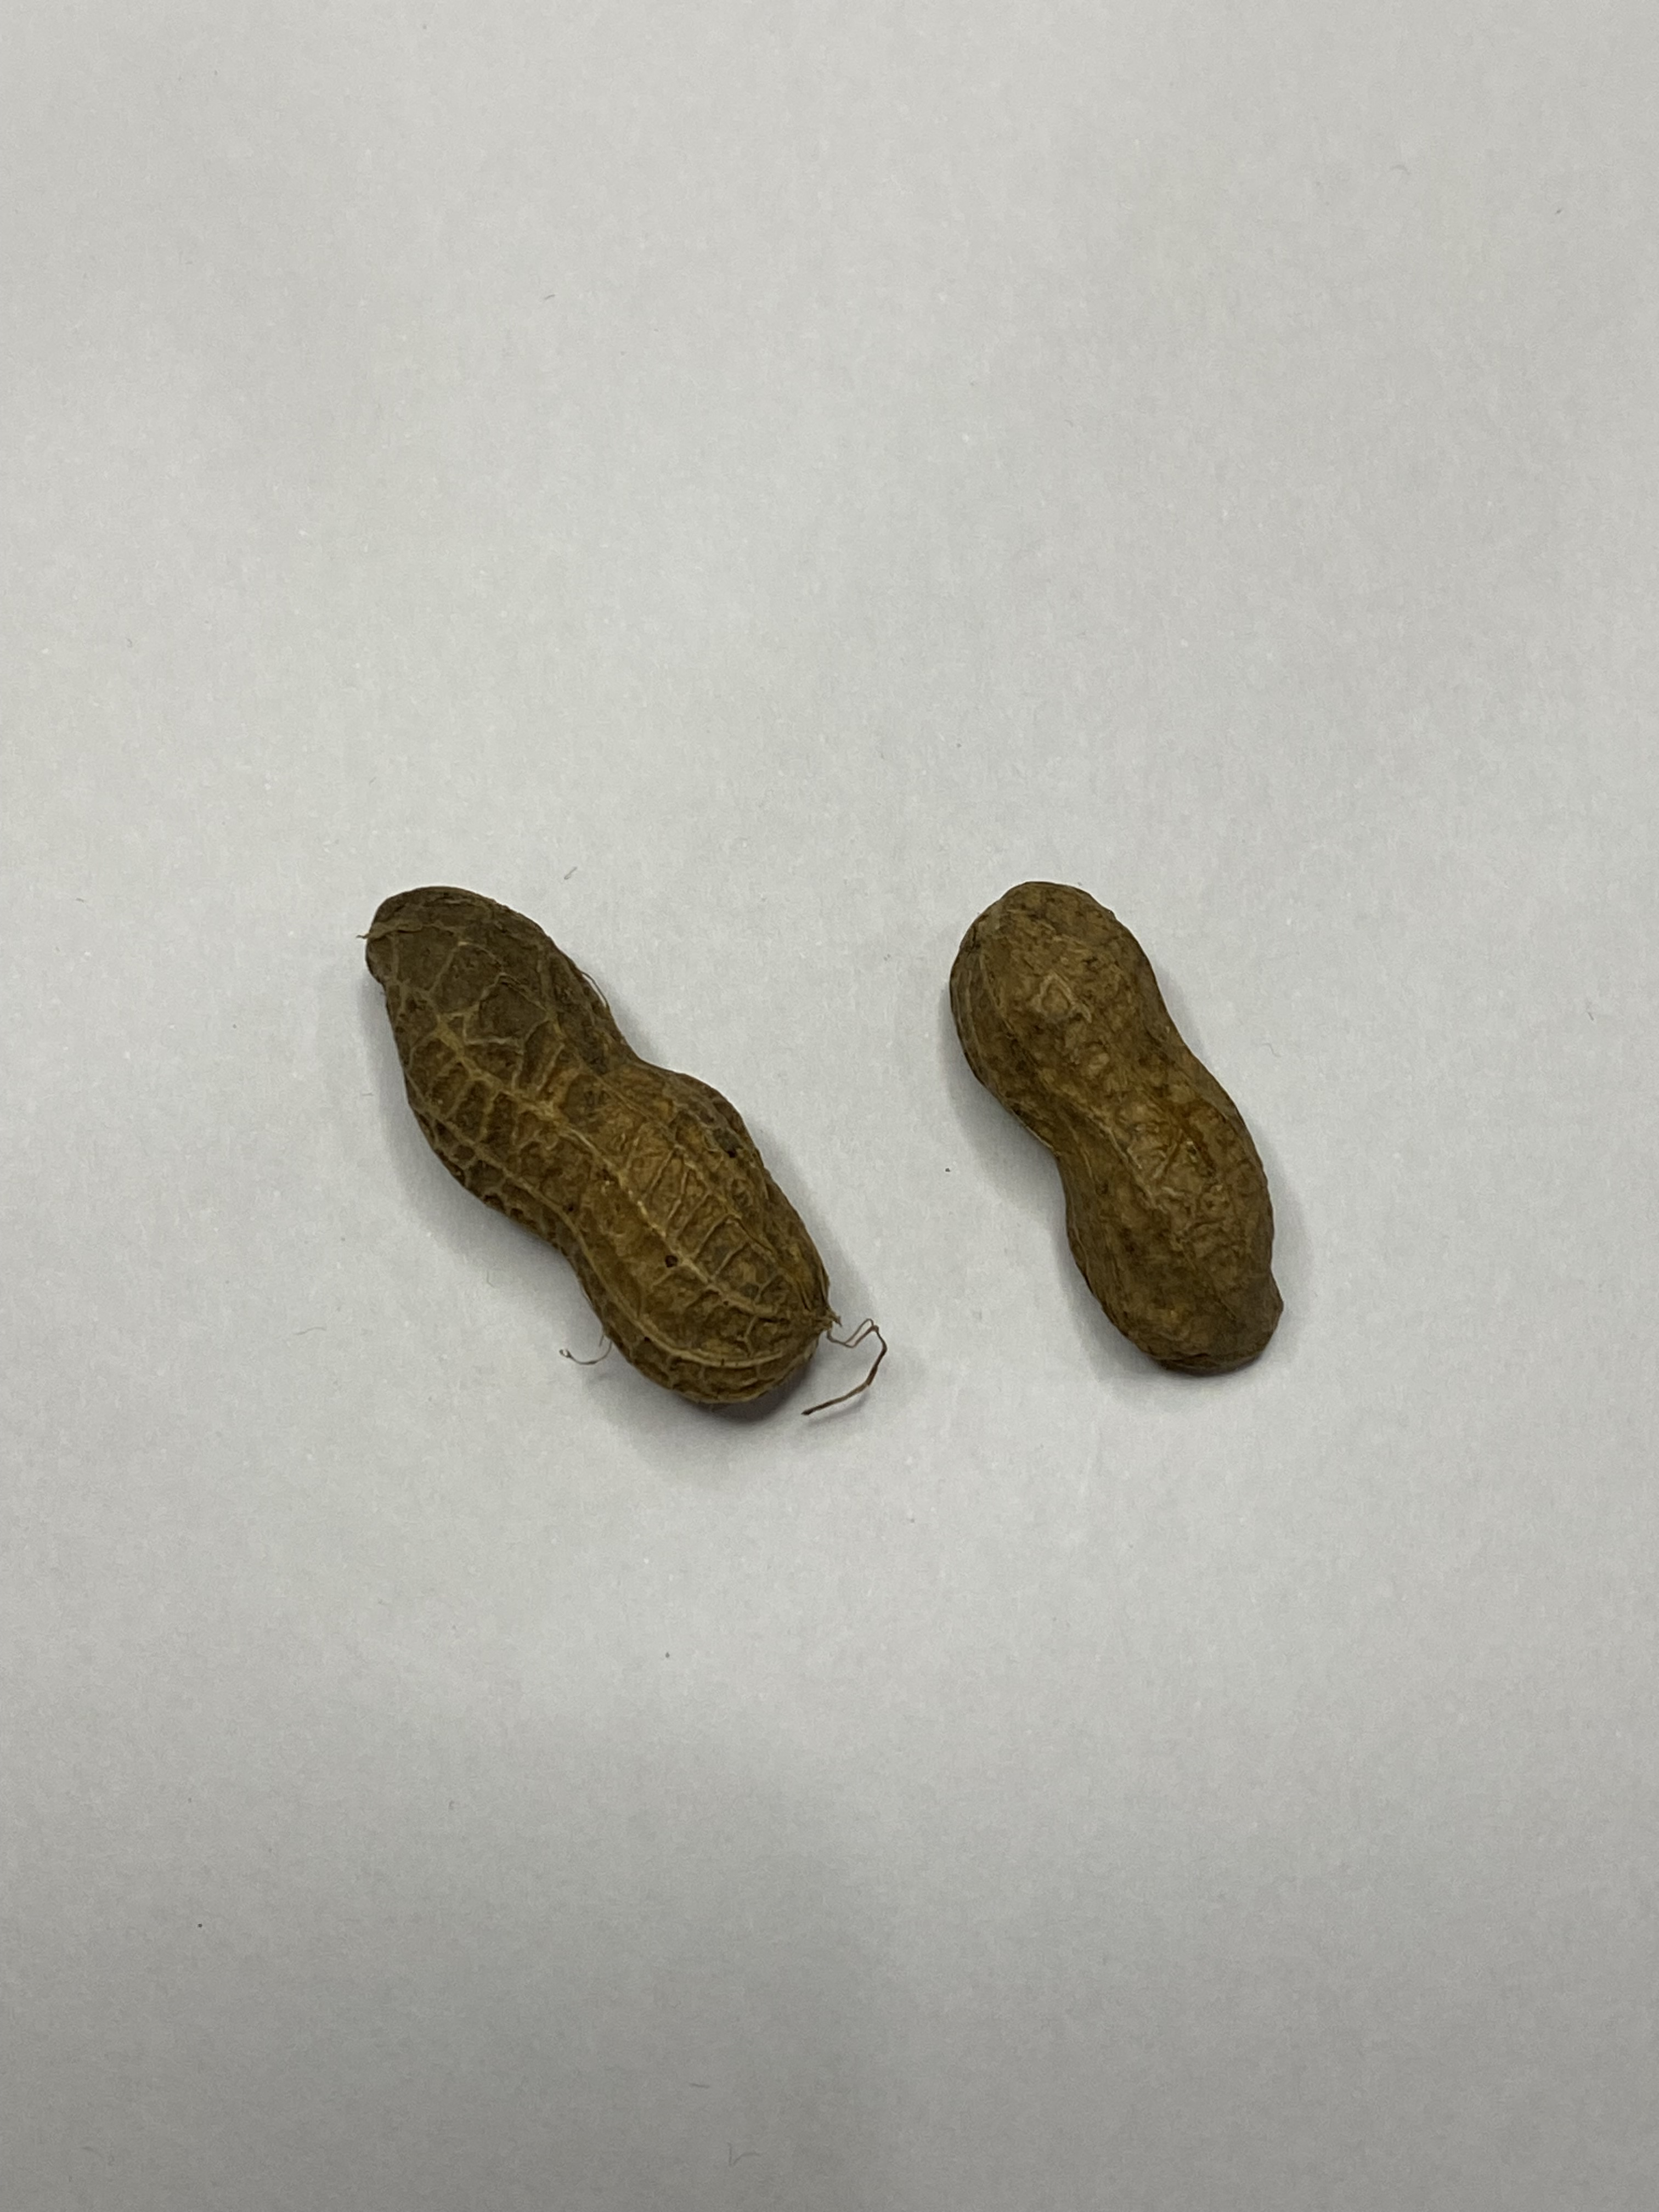kacang2: (934, 873, 1298, 1414)
kacang3: (317, 866, 845, 1418)
